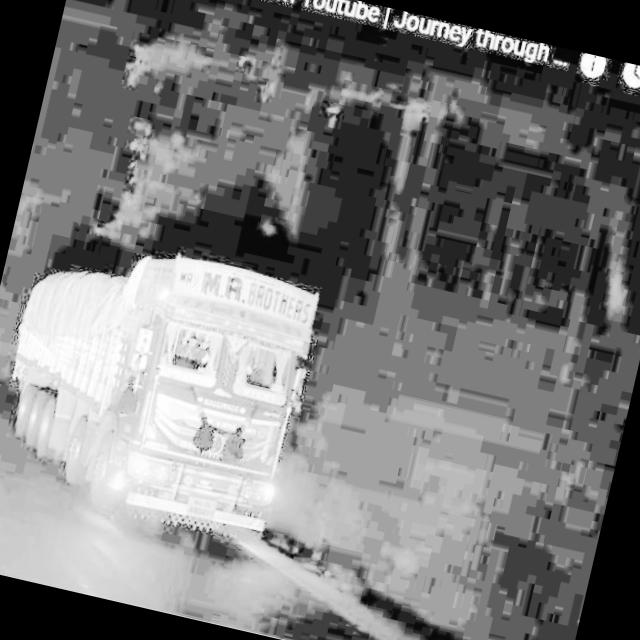Truck: (0, 220, 326, 557)
